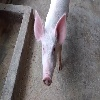heo: (32, 8, 68, 88)
